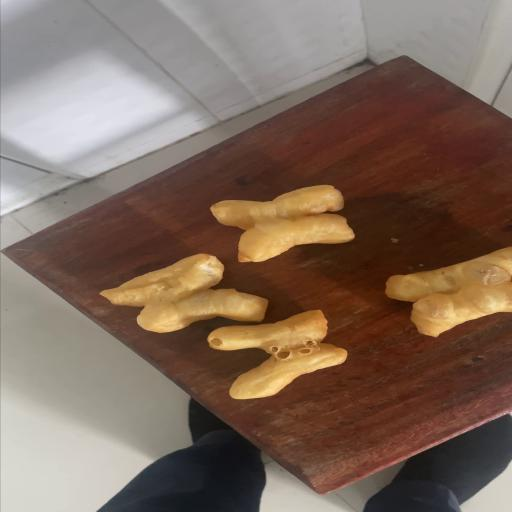street_golden_defect: (208, 311, 348, 398)
street_golden_good: (103, 254, 268, 331), (388, 247, 512, 335), (212, 186, 354, 262)
